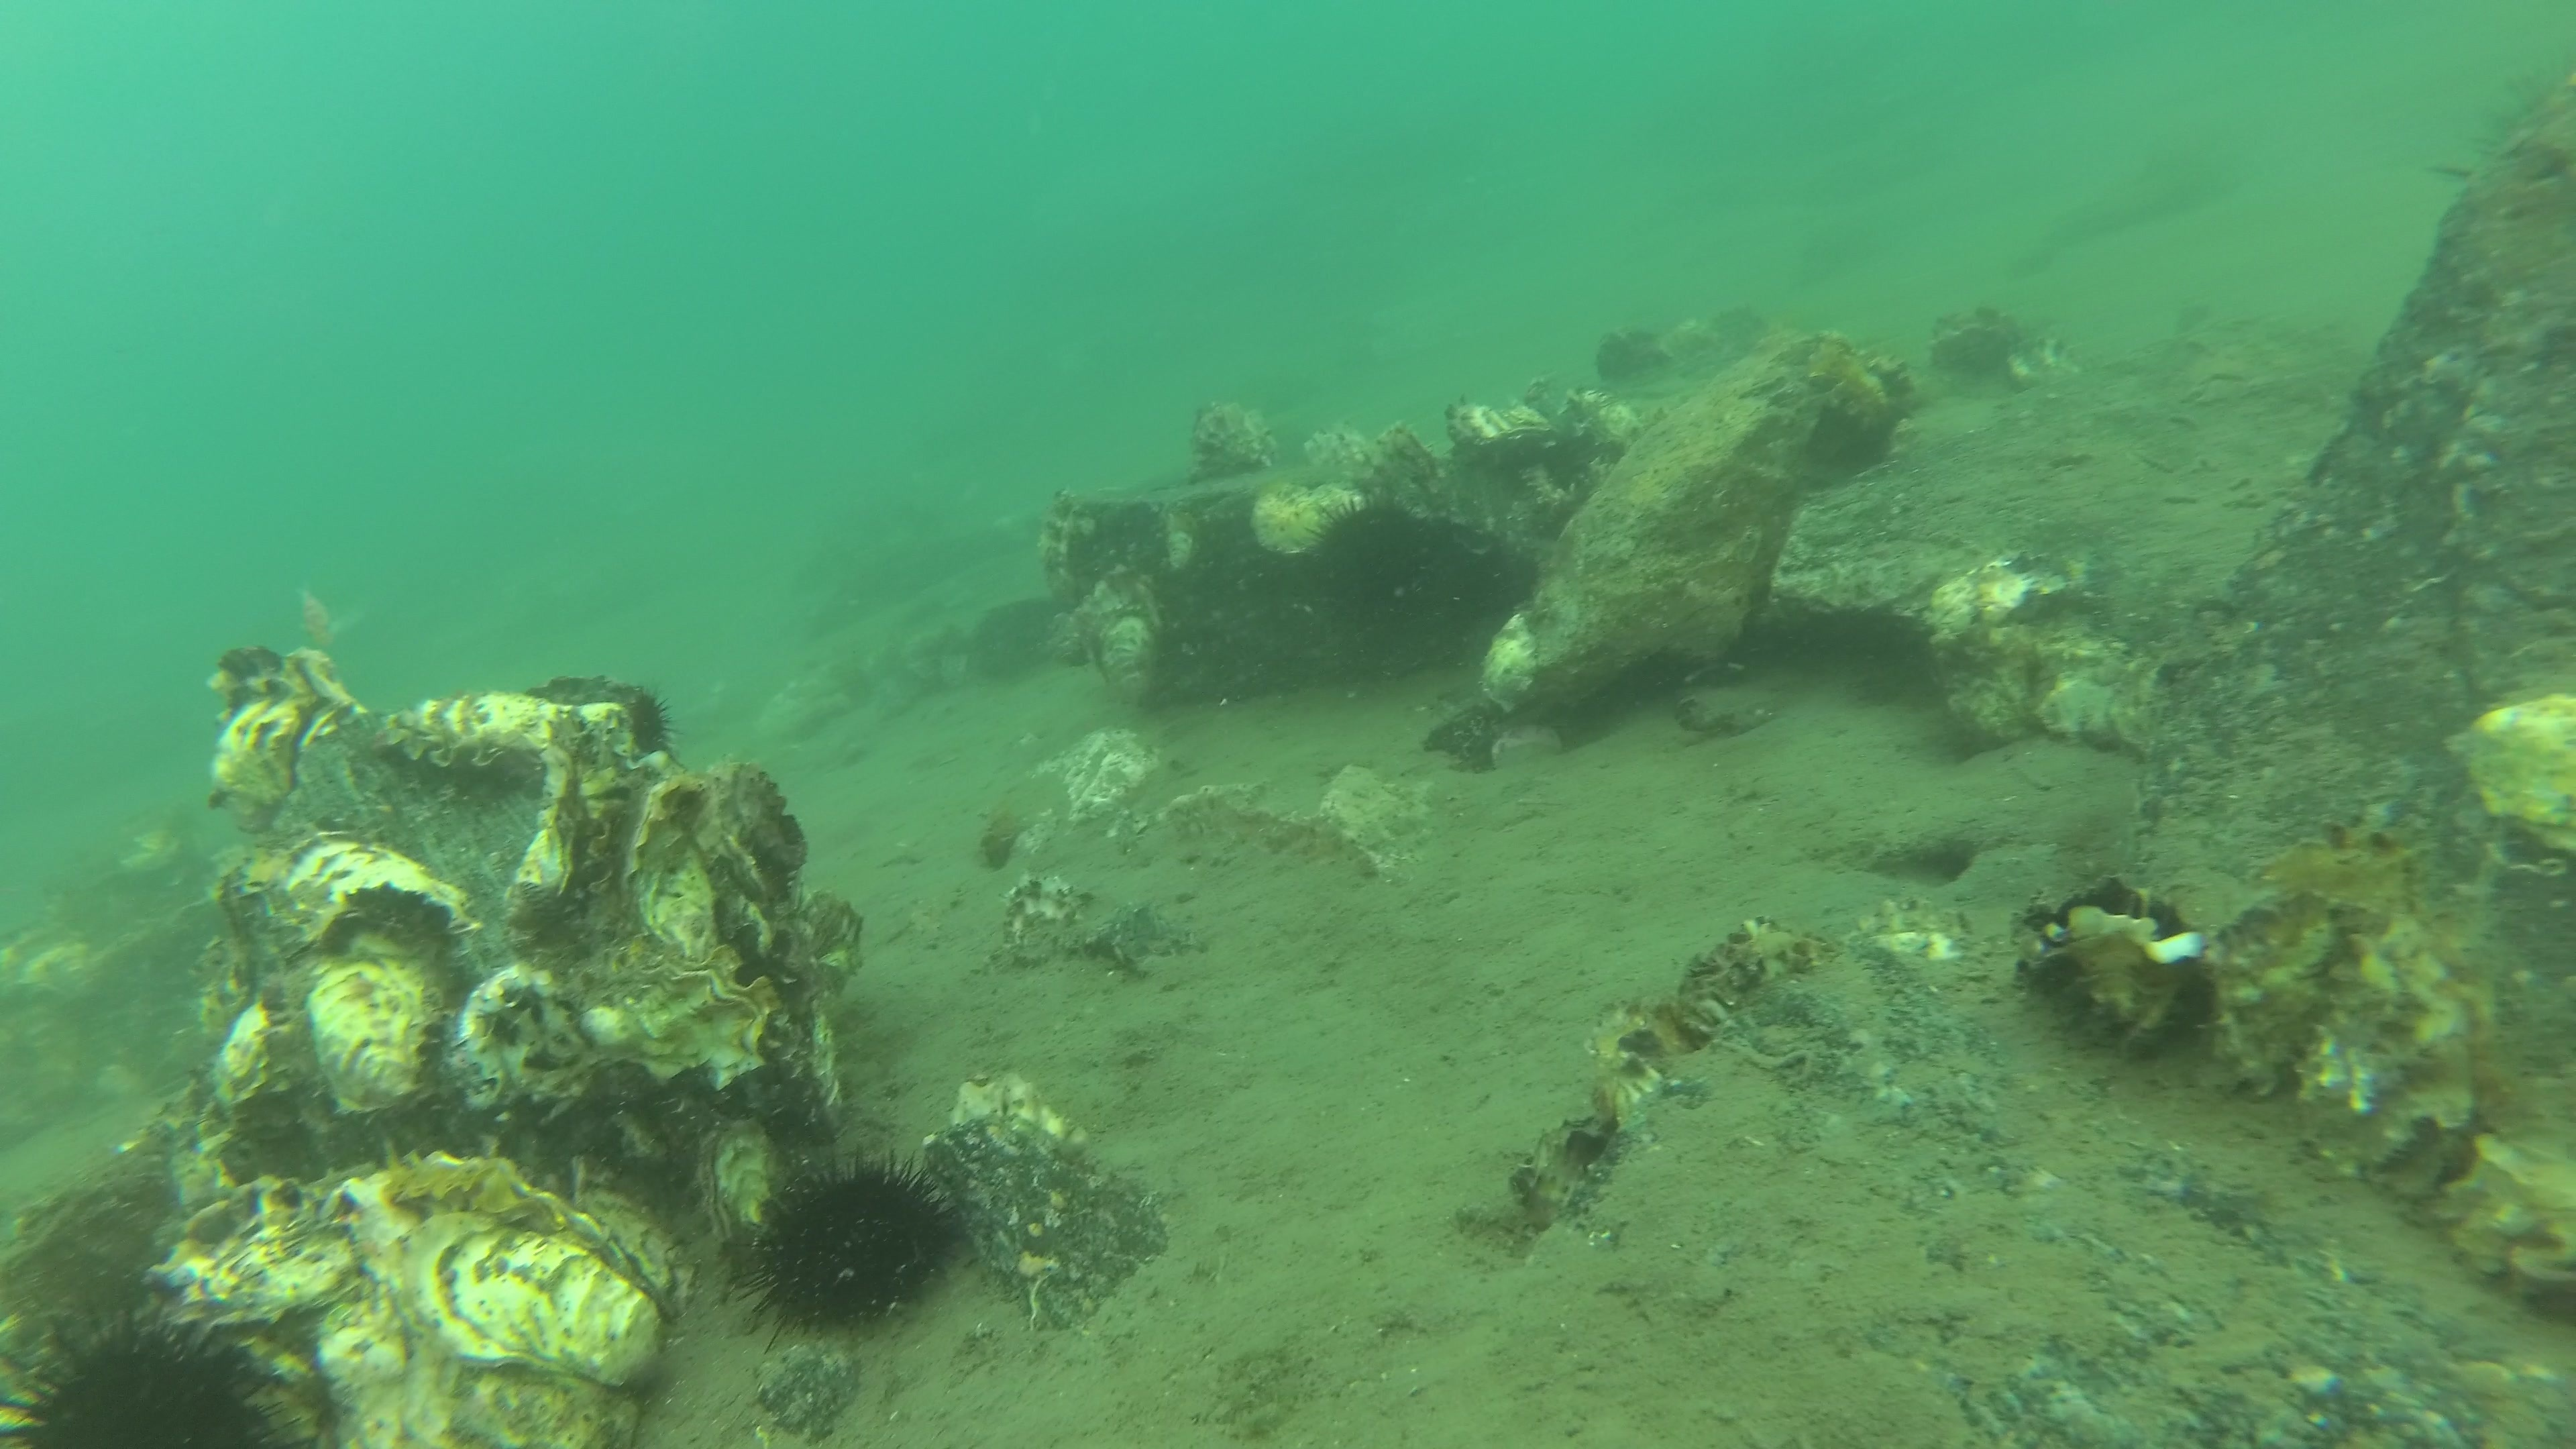echinus: (0, 1277, 318, 1449), (720, 1146, 975, 1353), (1300, 488, 1444, 602), (626, 685, 686, 755)
